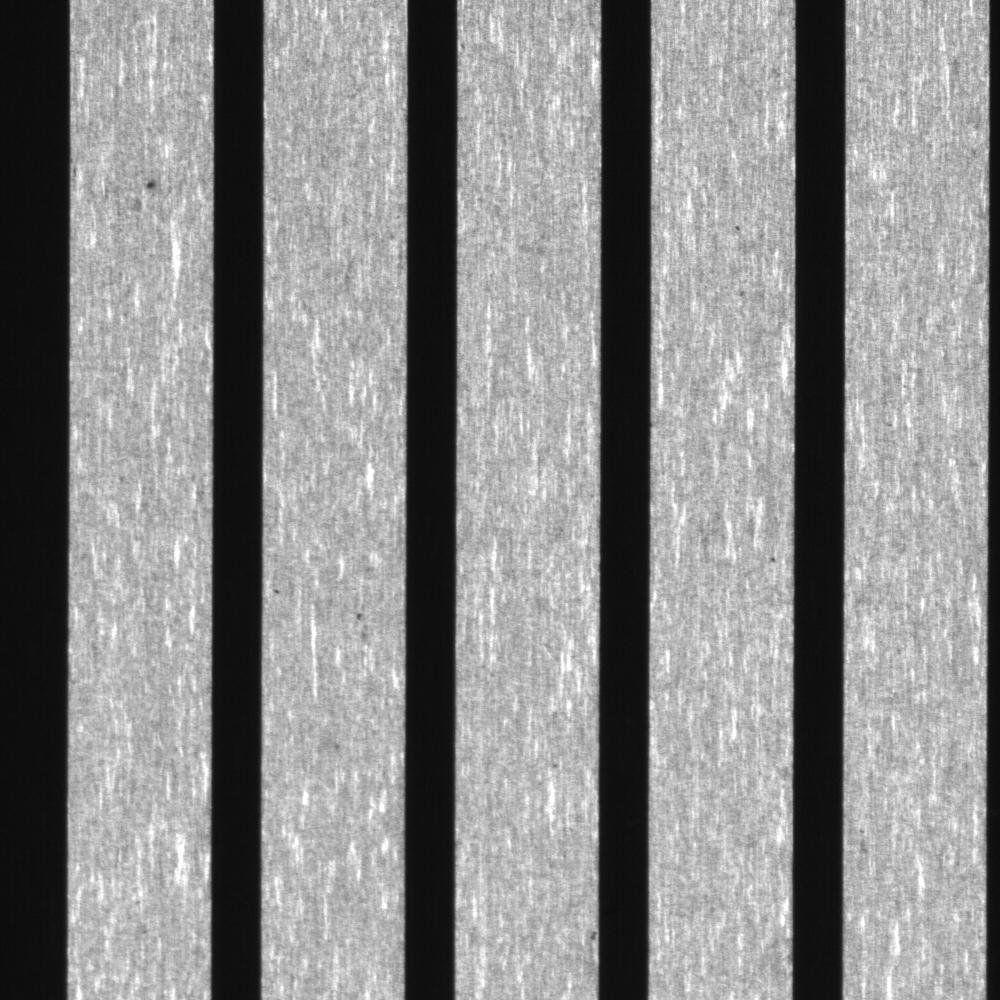Etching: (754, 542, 785, 571), (545, 746, 569, 782), (726, 212, 752, 240), (730, 280, 757, 306), (345, 596, 369, 623), (267, 579, 289, 601)
Pinhole: (135, 168, 165, 207)
